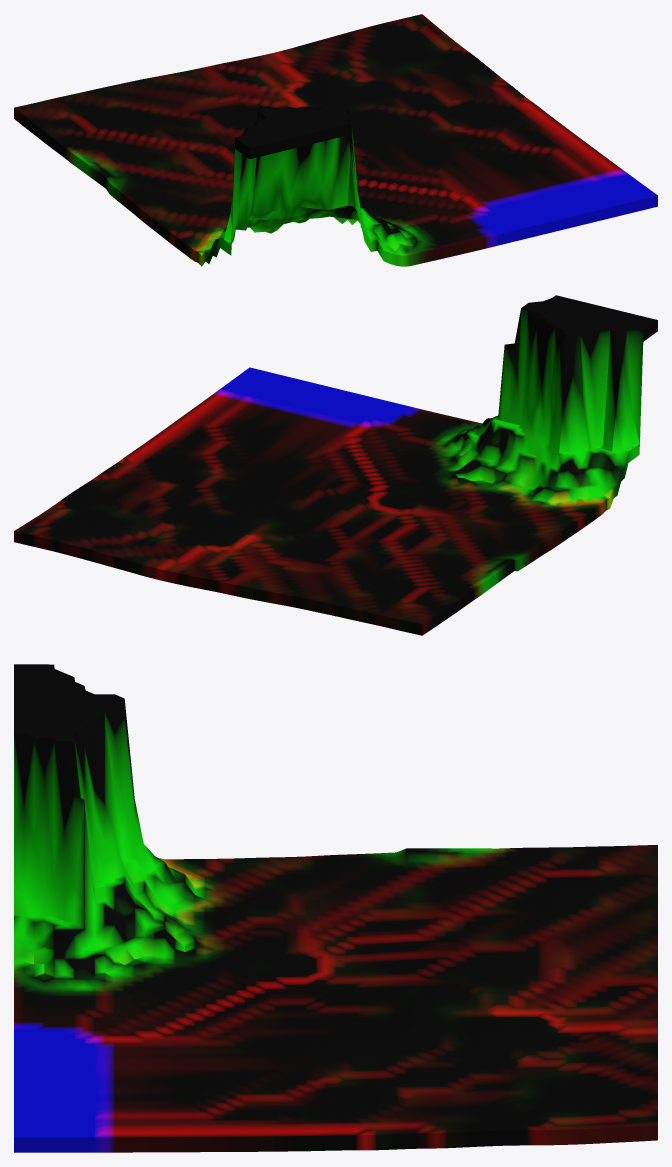
The model's file is Terrain_02_05.fbx.
3 views of the same model, one above another, from view 1: azimuth 30°, elevation 25°; view 2: azimuth 150°, elevation 25°; view 3: azimuth 270°, elevation 25° (orthographic). The views are drawn at different scales.
Visible parts, largest first — view 1: Terrain_02_05_LOD0; view 2: Terrain_02_05_LOD0; view 3: Terrain_02_05_LOD0.
Part boxes in pixels (bbox=[...]): Terrain_02_05_LOD0: bbox=[14, 14, 657, 266]; Terrain_02_05_LOD0: bbox=[14, 295, 657, 635]; Terrain_02_05_LOD0: bbox=[14, 664, 657, 1152].
Size of what is drawn, in the model's own units: 384 by 142 by 384.
